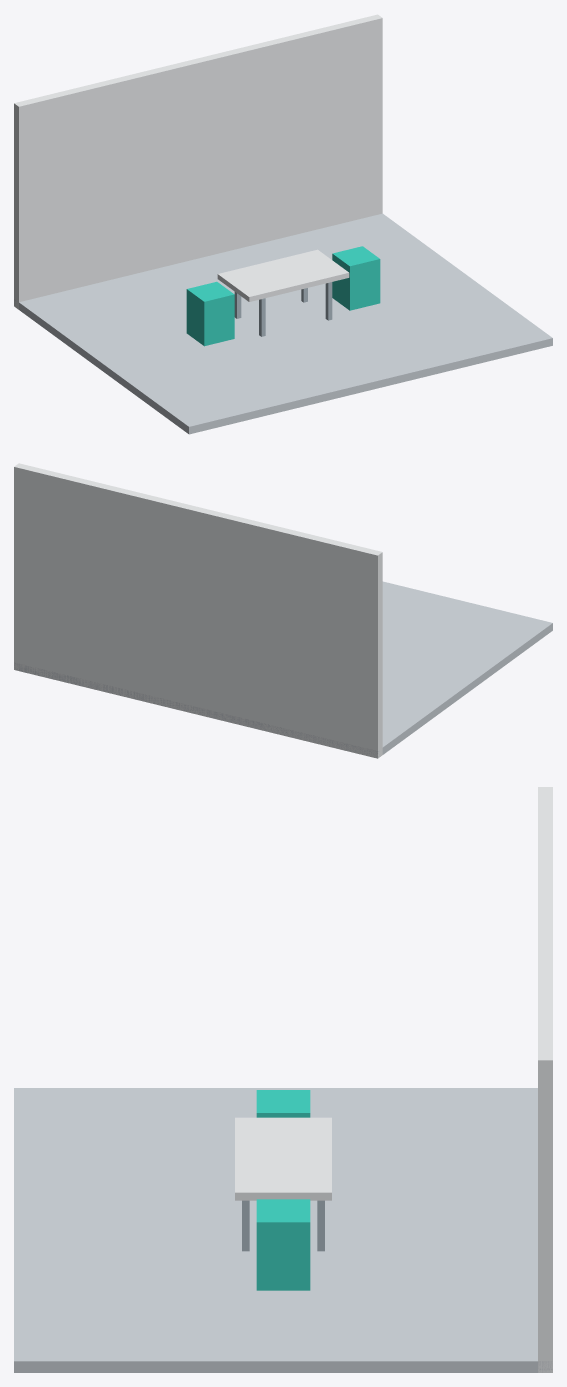
The picture shows the model from 3 angles, top to bottom: view 1: azimuth 30°, elevation 25°; view 2: azimuth 150°, elevation 25°; view 3: azimuth 270°, elevation 25°; orthographic projection. The views are drawn at different scales.
Parts seen in each view (by area): view 1: Exhibition Booth Concept; view 2: Exhibition Booth Concept; view 3: Exhibition Booth Concept.
Boxes of the visible parts, x1=… form: Exhibition Booth Concept: x1=14, y1=14, x2=552, y2=434; Exhibition Booth Concept: x1=14, y1=463, x2=552, y2=758; Exhibition Booth Concept: x1=14, y1=787, x2=552, y2=1372.
Size of the model in its own units: 6 by 3.2 by 5.
